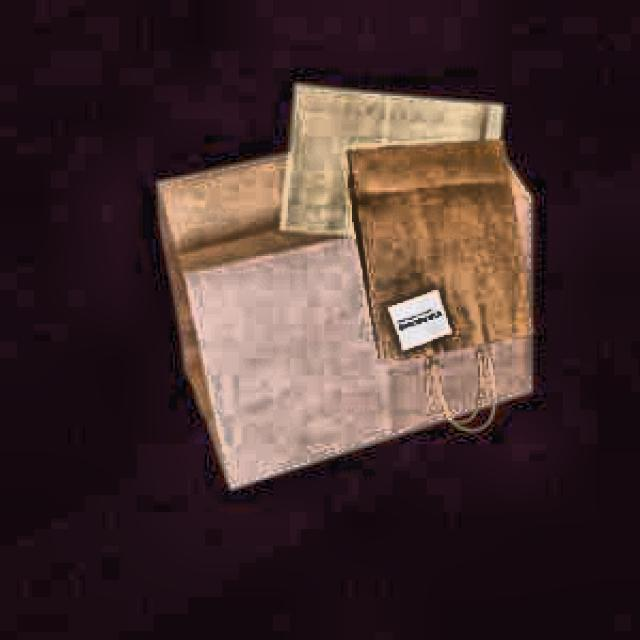Paper-bag: (137, 114, 544, 510), (334, 126, 534, 437), (260, 68, 528, 258)
